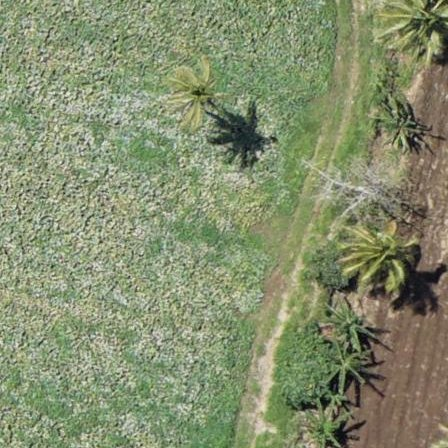palm_tree: (338, 213, 419, 300), (163, 62, 219, 121), (395, 1, 448, 46)
